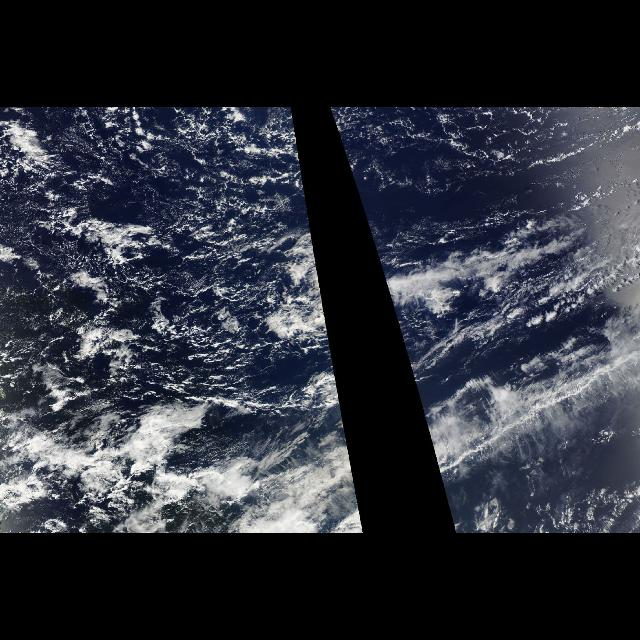Fish: (393, 313, 631, 529), (343, 425, 363, 529)
Gravel: (0, 108, 346, 438), (328, 107, 638, 205)
